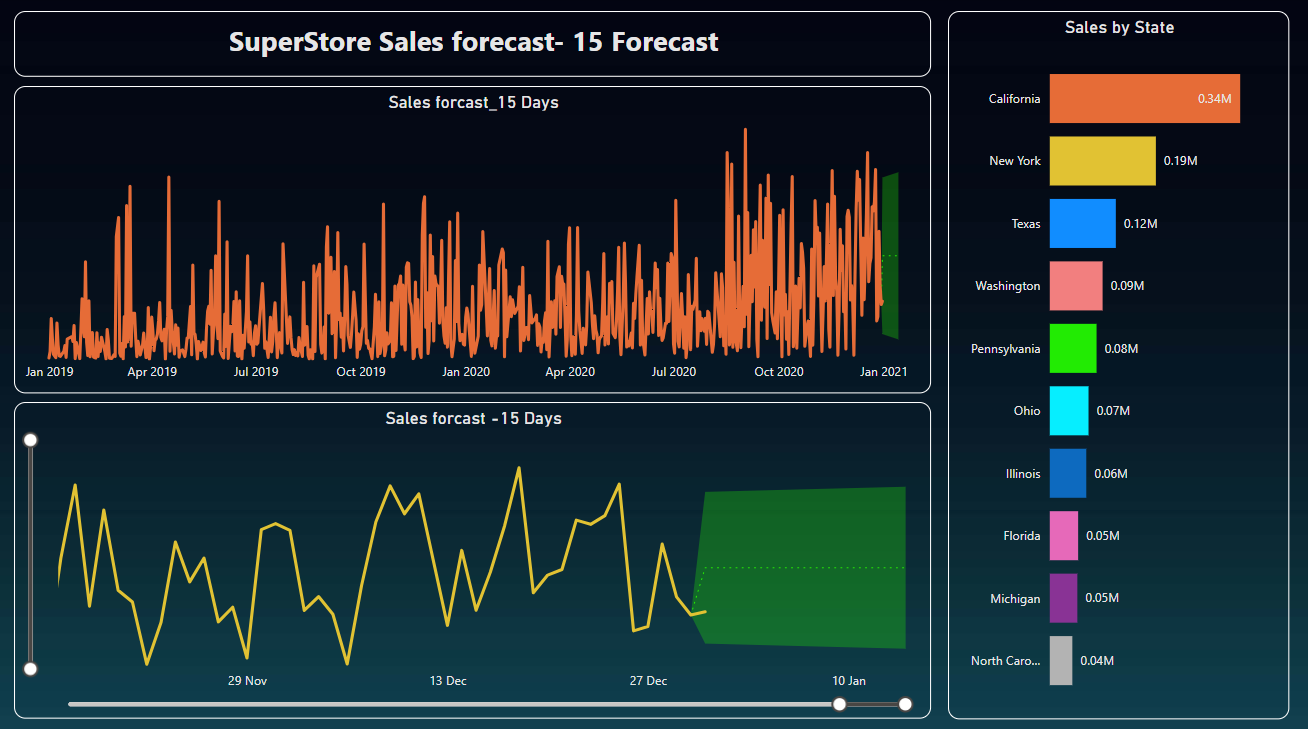

What the dashboard file says about the page in this screenshot:
{"tool":"powerbi","page":{"name":"forcast sheets","canvas":[1280,720],"ordinal":1},"visuals":[{"type":"lineChart","title":"Sales forcast_15 Days","fields":{"Category":["SuperStore_Sales_Dataset (2).Order Date"],"Y":["Sum(SuperStore_Sales_Dataset (2).Sales)"]},"box":[15.6,85.6,892.2,298.9],"z":0},{"type":"lineChart","title":"Sales forcast -15 Days","fields":{"Category":["SuperStore_Sales_Dataset (2).Order Date"],"Y":["Sum(SuperStore_Sales_Dataset (2).Sales)"]},"box":[15.6,393.3,892.2,307.8],"z":1000},{"type":"clusteredBarChart","title":"Sales by State","fields":{"Category":["SuperStore_Sales_Dataset (2).State"],"Y":["Sum(SuperStore_Sales_Dataset (2).Sales)"]},"box":[924.4,12.2,332.2,688.9],"z":2000},{"type":"textbox","box":[15.6,12.2,892.2,64.4],"z":3000}]}

Visuals, with their boxes in screenshot pixels (x1, y1, x2, y2), scaled from the page's 1280x720 canvas onto the 1308x729 screenshot:
"Sales forcast_15 Days" lineChart: crop(16, 87, 928, 389)
"Sales forcast -15 Days" lineChart: crop(16, 398, 928, 710)
"Sales by State" clusteredBarChart: crop(945, 12, 1284, 710)
textbox: crop(16, 12, 928, 78)
